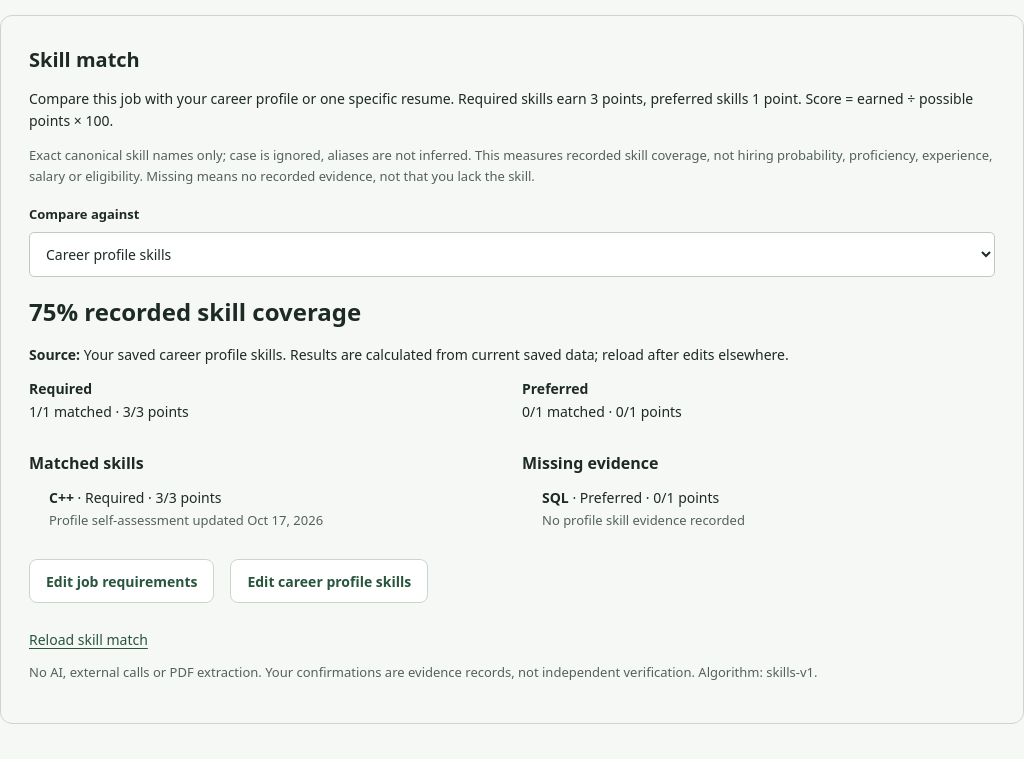
Test: rejects duplicate names across groups without writing
The image size is (1024, 759).
Click the button "Edit job requirements" at (122, 581), box top-left (29, 559), bottom-right (214, 603)
(page scrolled)
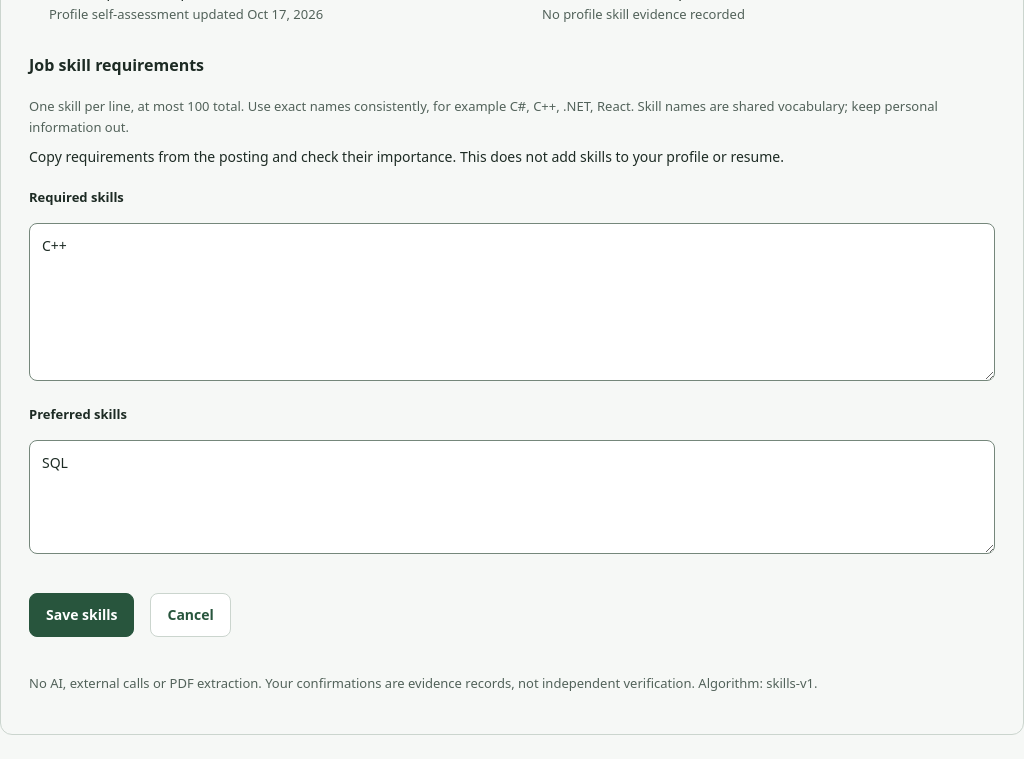
Replace the text in the text box labelled "Preferred skills" with " c++ " at (512, 497), box top-left (29, 440), bottom-right (995, 554)
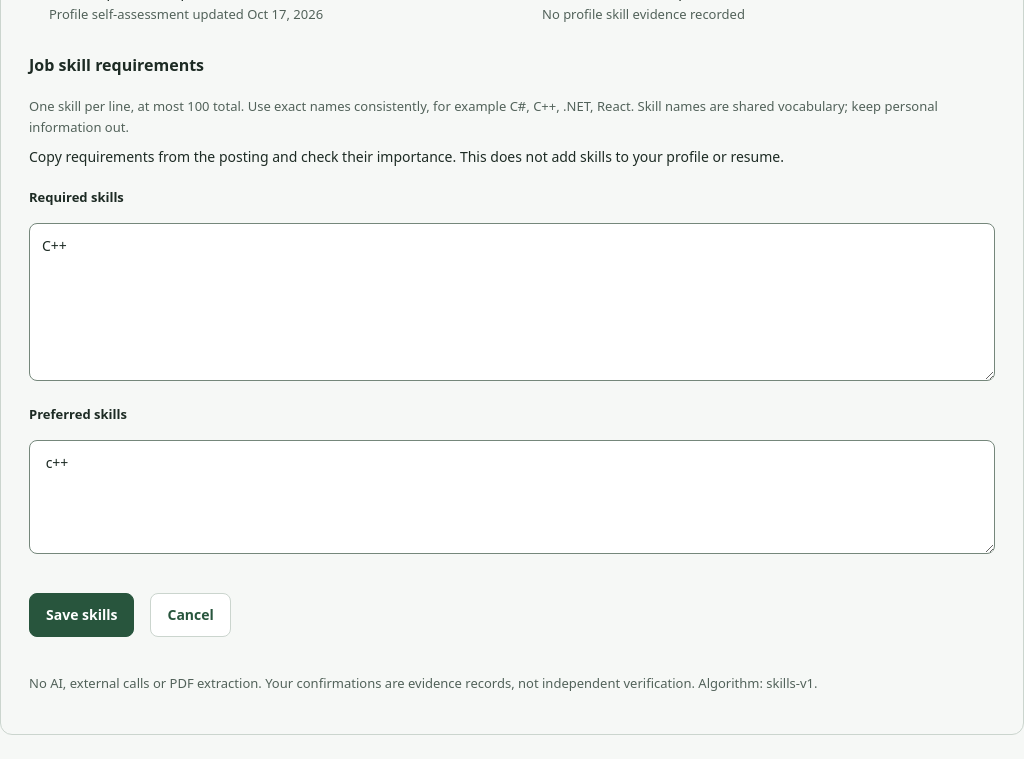
Click the button "Save skills" at (82, 615), box top-left (29, 593), bottom-right (134, 637)
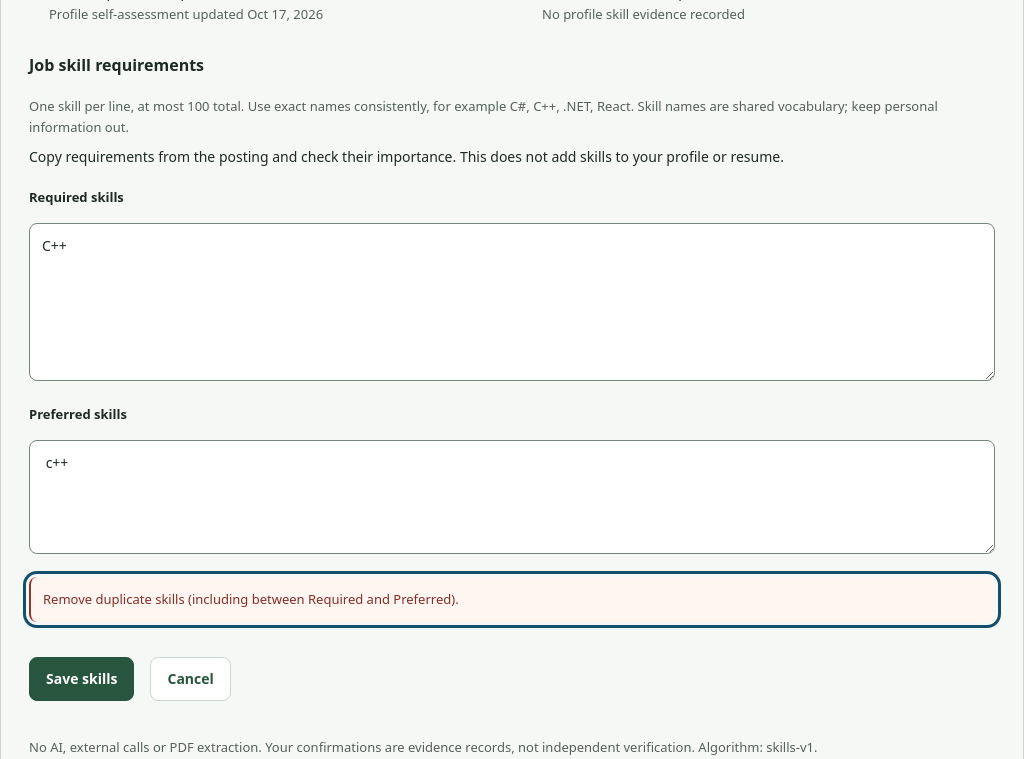
Expected: the message shows "Remove duplicate skills", top-left (43, 590), bottom-right (459, 608)
